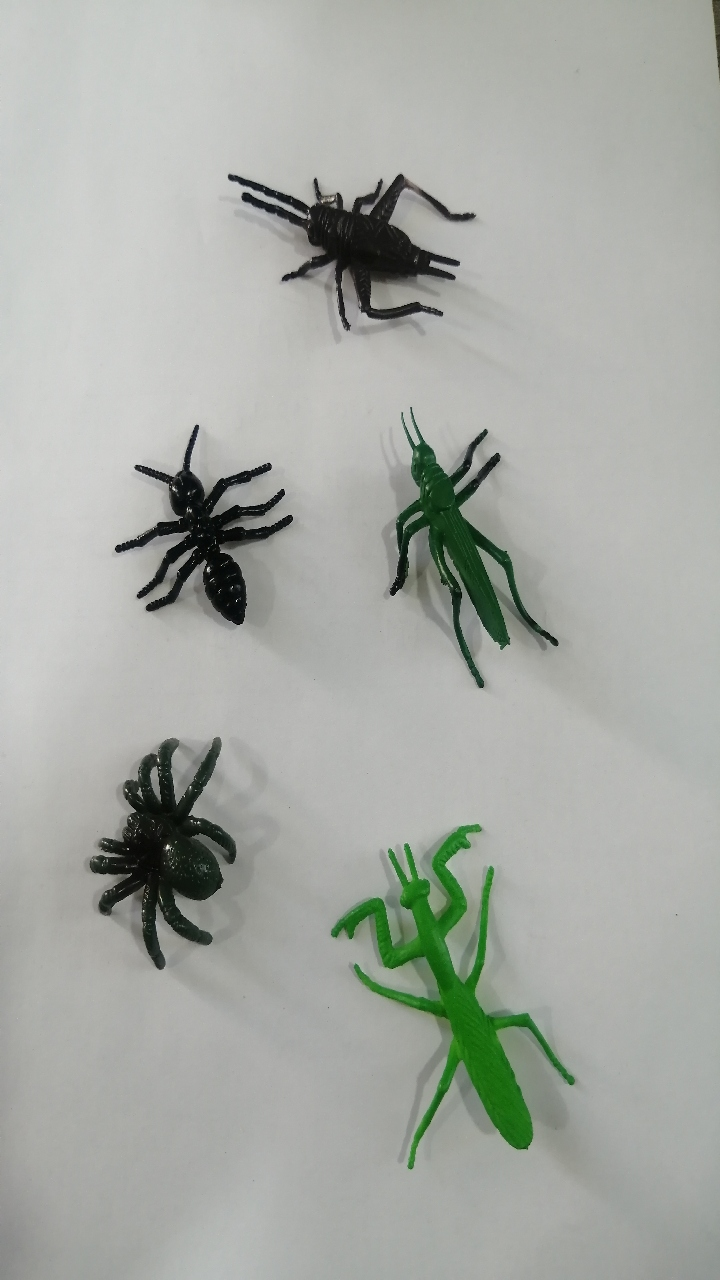intruso: (312, 786, 611, 1219), (186, 122, 508, 365), (364, 383, 581, 708), (41, 715, 258, 986), (75, 406, 304, 660)
